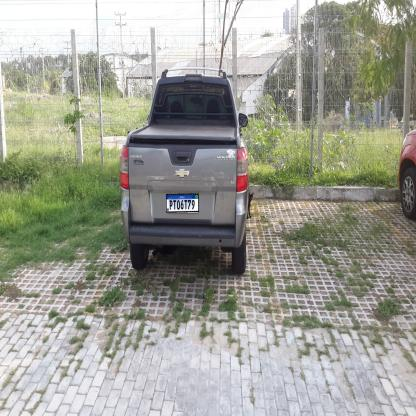PlacaM: (166, 194, 199, 212)
